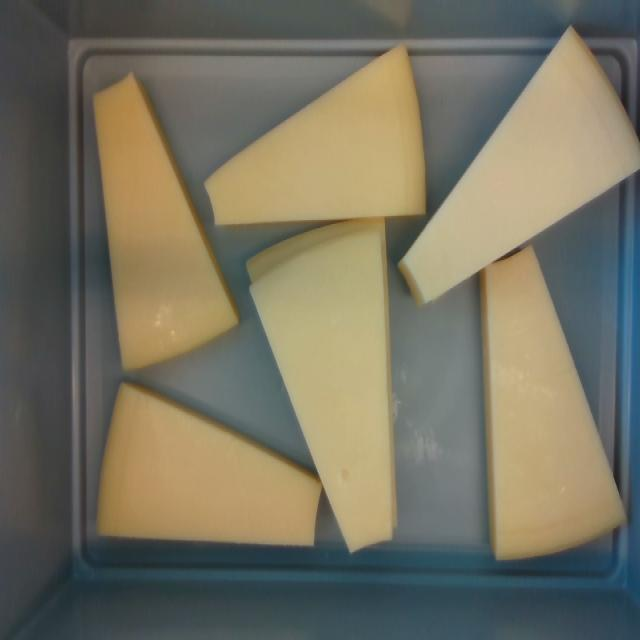cheese: (401, 25, 639, 306), (247, 230, 392, 551), (485, 247, 627, 559), (95, 73, 238, 368), (203, 43, 425, 224), (98, 380, 321, 546)
